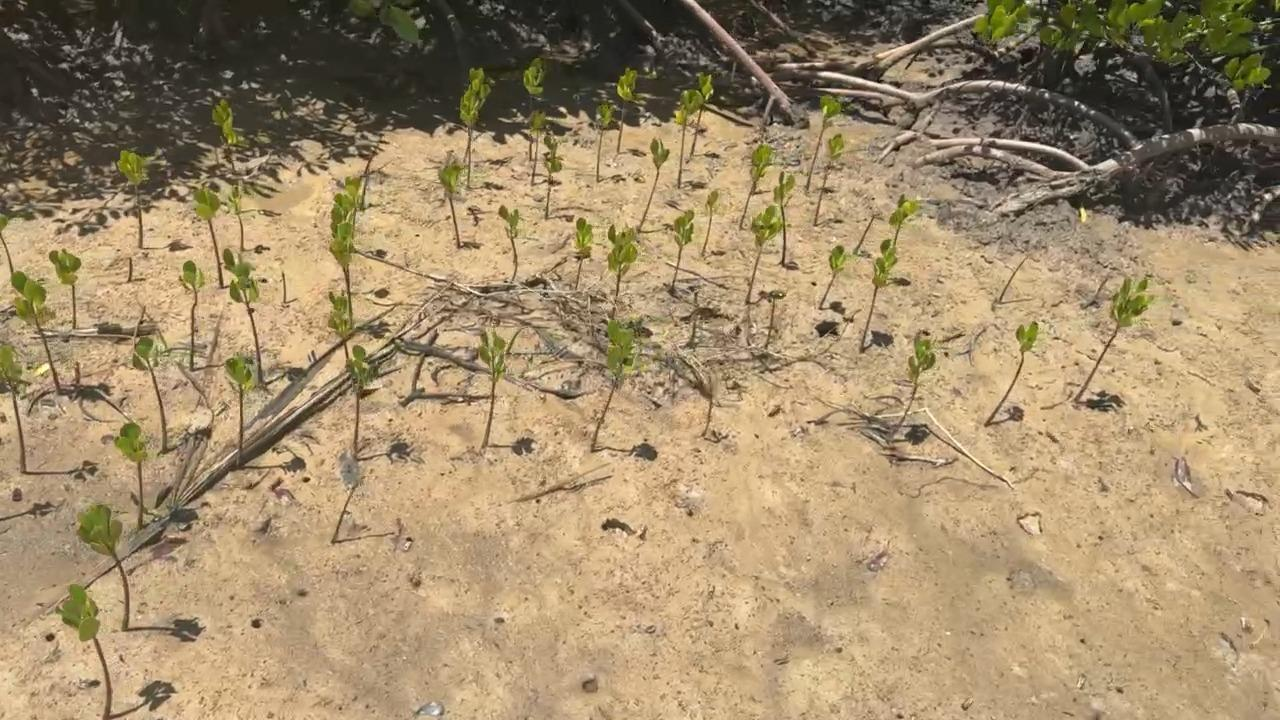Tree: (1073, 276, 1149, 402), (54, 583, 112, 720), (76, 501, 129, 631), (9, 269, 61, 394), (588, 319, 635, 456), (984, 320, 1039, 427), (221, 248, 263, 383), (859, 239, 898, 352), (131, 336, 168, 453), (114, 423, 149, 530), (745, 205, 783, 301), (224, 353, 254, 469), (805, 95, 841, 190), (0, 342, 26, 472), (192, 188, 225, 289), (477, 330, 505, 448), (637, 137, 670, 231), (178, 260, 205, 370), (813, 133, 845, 224), (738, 143, 771, 229), (346, 344, 370, 461), (116, 149, 144, 248), (48, 247, 81, 330), (463, 67, 491, 162), (677, 88, 703, 189), (606, 223, 638, 296), (523, 57, 545, 161), (327, 204, 353, 291), (772, 171, 795, 266), (438, 162, 462, 248), (690, 71, 714, 156), (540, 135, 563, 219), (905, 337, 936, 398), (459, 88, 478, 187), (819, 245, 847, 308), (616, 68, 637, 152), (213, 99, 237, 172), (673, 210, 695, 287), (327, 290, 351, 359), (572, 216, 593, 288), (1000, 256, 1031, 303), (889, 193, 916, 245), (595, 104, 613, 182), (530, 111, 546, 186), (498, 204, 520, 257), (702, 190, 718, 254), (852, 213, 875, 255), (229, 187, 244, 249), (336, 176, 360, 211), (0, 214, 14, 272), (765, 295, 777, 348), (281, 271, 287, 302)
